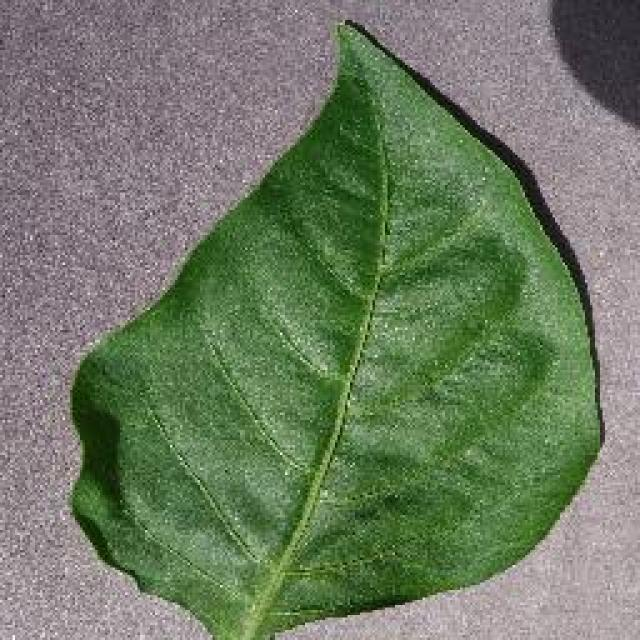Leaf: (34, 8, 620, 607)
